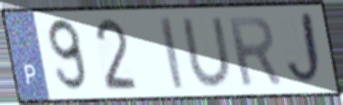2: (92, 15, 141, 95)
9: (46, 17, 90, 96)
I: (156, 13, 187, 92)
J: (283, 9, 327, 91)
R: (224, 14, 285, 89)
U: (179, 14, 237, 90)
